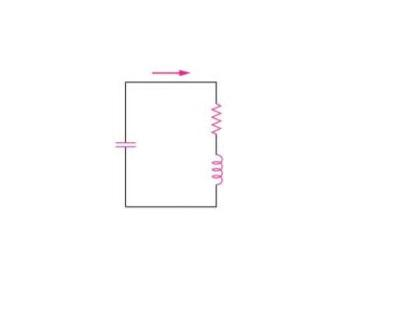resistor: (200, 94, 228, 140)
